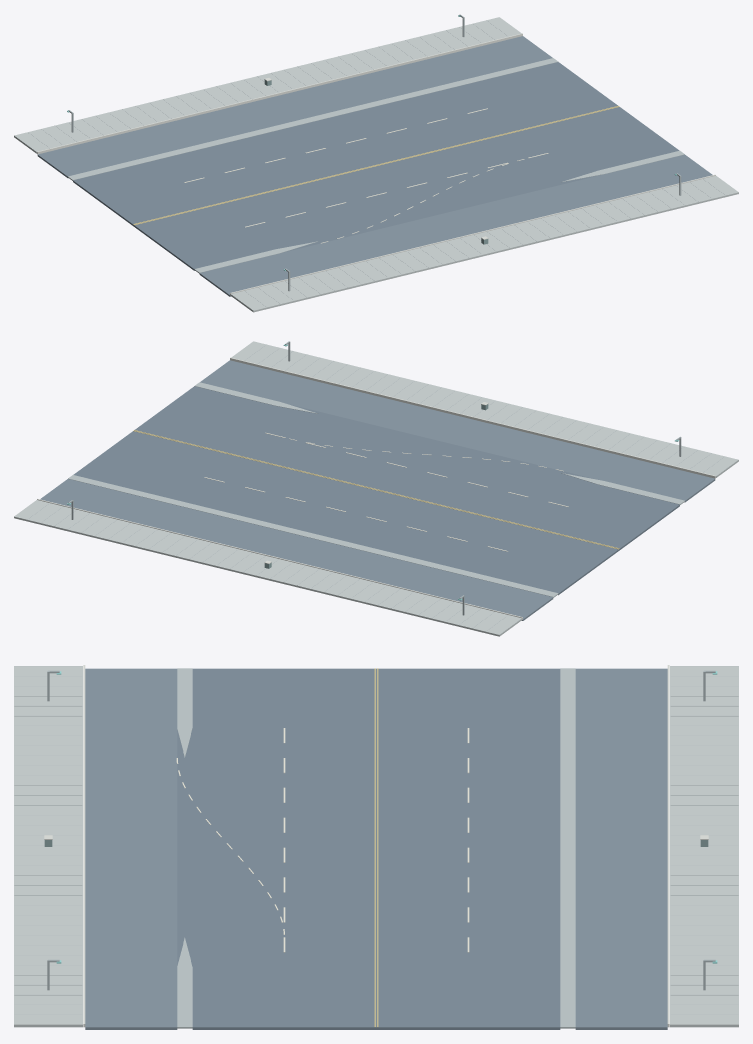
The model's file is city-w78-s59.glb.
3 views of the same model, one above another, from view 1: azimuth 30°, elevation 25°; view 2: azimuth 150°, elevation 25°; view 3: azimuth 270°, elevation 25° (orthographic). The views are drawn at different scales.
Parts seen in each view (by area): view 1: Main_road, Frontage_roads, Sidewalk, Medians, Curbs, Paving_joints, Merge_surface, Center_lines; view 2: Main_road, Frontage_roads, Sidewalk, Medians, Curbs, Paving_joints, Merge_surface, Center_lines, Lane_markings; view 3: Main_road, Frontage_roads, Sidewalk, Medians, Paving_joints, Merge_surface, Curbs, Center_lines, Lane_markings.
Part boxes in pixels (x1,y1,x2,y2): Main_road: (73,62,679,270); Frontage_roads: (37,36,712,296); Sidewalk: (14,17,738,312); Medians: (68,58,684,273); Curbs: (37,33,715,295); Paving_joints: (14,20,725,310); Merge_surface: (283,172,601,252); Center_lines: (133,106,619,225); Main_road: (73,386,679,595); Frontage_roads: (40,360,715,620); Sidewalk: (14,341,738,636); Medians: (68,382,684,597); Curbs: (37,357,715,619); Paving_joints: (27,344,737,634); Merge_surface: (279,404,598,484); Center_lines: (133,430,619,549); Lane_markings: (204,432,568,551); Main_road: (192,668,560,1029); Frontage_roads: (85,668,667,1029); Sidewalk: (14,666,738,1027); Medians: (177,668,575,1028); Paving_joints: (14,666,738,1014); Merge_surface: (177,728,192,966); Curbs: (83,665,669,1027); Center_lines: (374,668,378,1027); Lane_markings: (283,728,469,952).
Size of the model in its own units: 72 by 3.26 by 61.5.
